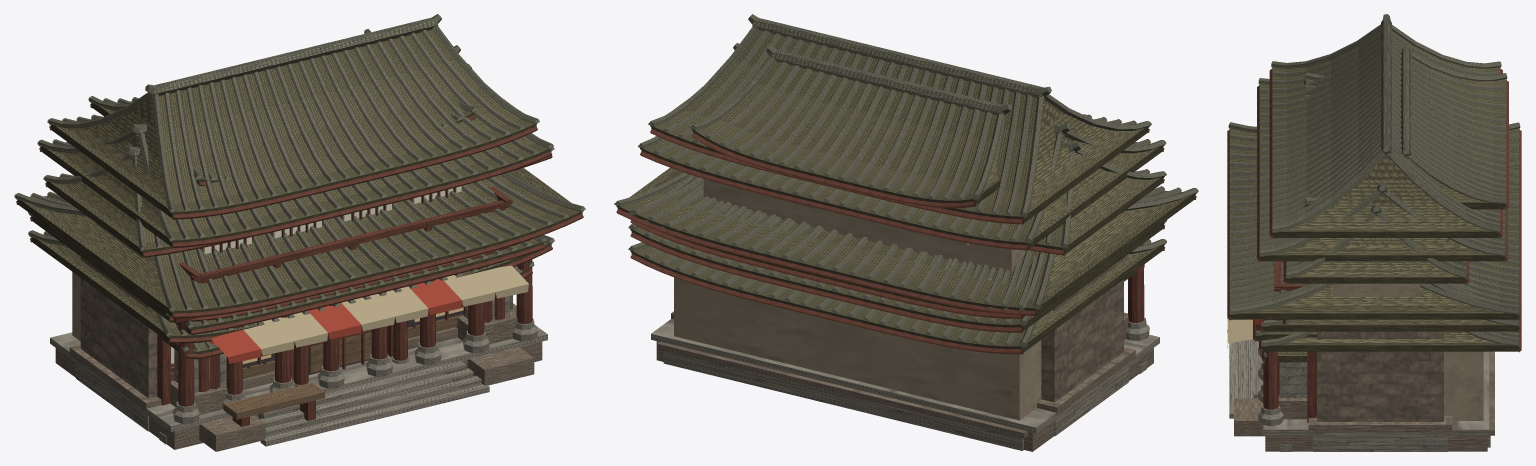
Rendered from regional_capital.glb.
3 renders of one model, left to right at view 1: azimuth 30°, elevation 25°; view 2: azimuth 150°, elevation 25°; view 3: azimuth 270°, elevation 25°, orthographic. The views are drawn at different scales.
Visible parts, largest first — view 1: hall, inn, gate, shop, wing, cottage, home; view 2: hall, wing, inn, gate, cottage, home; view 3: hall, gate, wing, inn, cottage, home, shop.
Boxes of the visible parts, bbox=[...] form: hall: bbox=[14, 14, 585, 451]; inn: bbox=[37, 45, 553, 391]; gate: bbox=[43, 64, 554, 444]; shop: bbox=[211, 265, 528, 426]; wing: bbox=[30, 29, 534, 414]; cottage: bbox=[28, 230, 554, 368]; home: bbox=[28, 212, 521, 389]; hall: bbox=[614, 14, 1198, 451]; wing: bbox=[628, 46, 1144, 450]; inn: bbox=[638, 43, 1166, 272]; gate: bbox=[671, 141, 1166, 435]; cottage: bbox=[628, 239, 1166, 354]; home: bbox=[628, 220, 1166, 332]; hall: bbox=[1227, 14, 1521, 451]; gate: bbox=[1280, 204, 1469, 451]; wing: bbox=[1262, 42, 1520, 447]; inn: bbox=[1253, 78, 1507, 395]; cottage: bbox=[1259, 330, 1521, 352]; home: bbox=[1259, 318, 1521, 332]; shop: bbox=[1227, 319, 1314, 348].
Size of the model in its own units: 2.26 by 1.6 by 1.49.
Materials: 1 (1 with a texture image).
